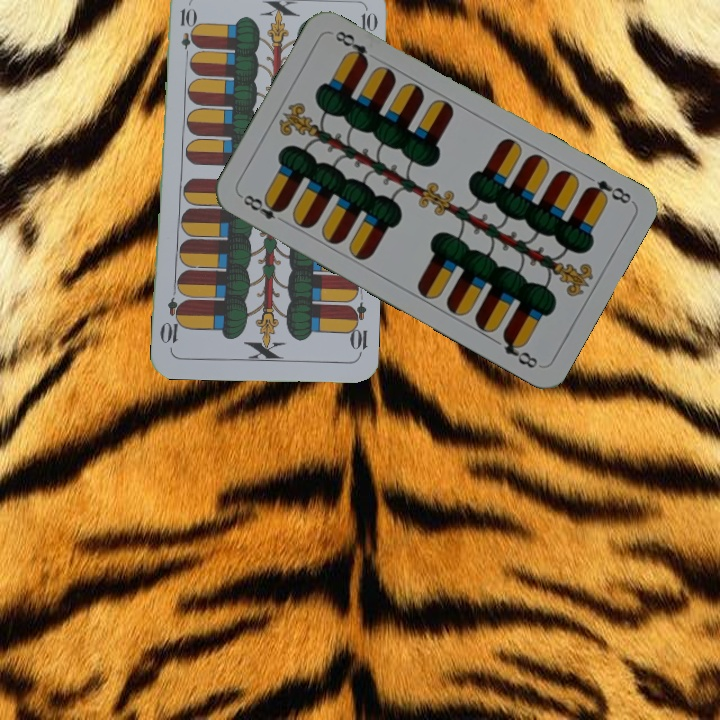E10: (344, 299, 370, 358), (176, 4, 195, 63)
E8: (581, 175, 634, 207), (236, 190, 287, 223)
